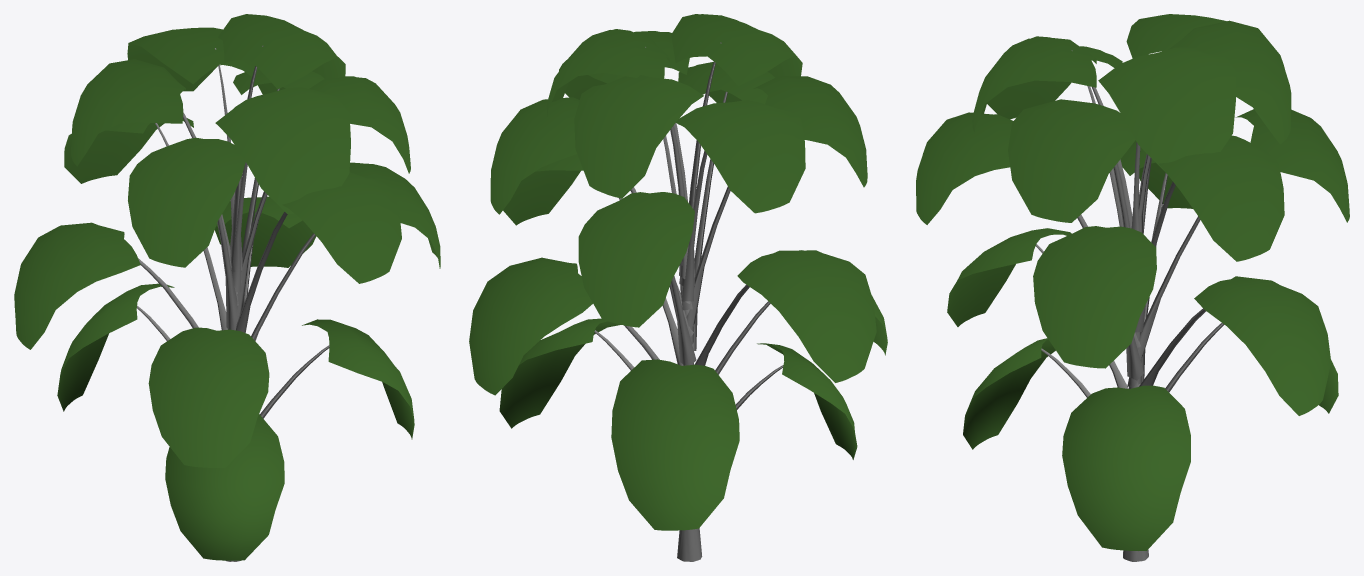
File: SM_plant_tropical_02.fbx
3 views of the same model, side by side, from view 1: azimuth 30°, elevation 25°; view 2: azimuth 150°, elevation 25°; view 3: azimuth 270°, elevation 25° (orthographic). The views are drawn at different scales.
Parts seen in each view (by area): view 1: tree020; view 2: tree020; view 3: tree020.
Part boxes in pixels (x1=…): tree020: x1=14, y1=14, x2=440, y2=561; tree020: x1=469, y1=14, x2=887, y2=561; tree020: x1=916, y1=14, x2=1349, y2=561.
Bounding box in the file's own units: 54.61 × 70.31 × 52.3.
